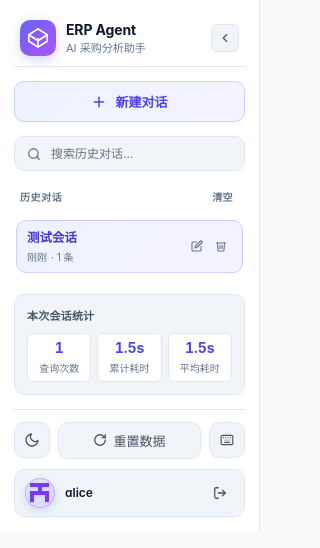
Test: Sidebar — rename session › cancels edit on Escape
Click the button named "重命名对话" at x=197, y=246, box [186,235,208,257]
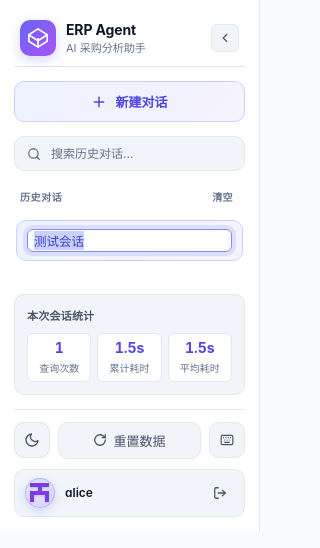
Press Escape in the field with class "sidebar-history-item-edit", box [27,229,232,252]
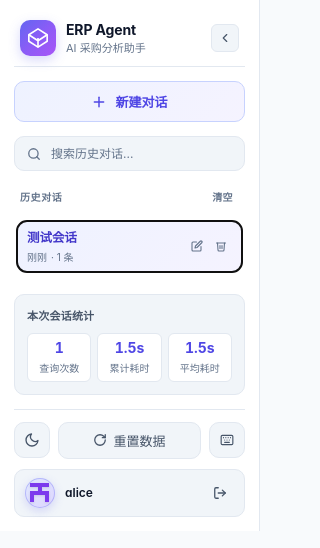
Expected: the field with class "sidebar-history-item-edit" is gone
